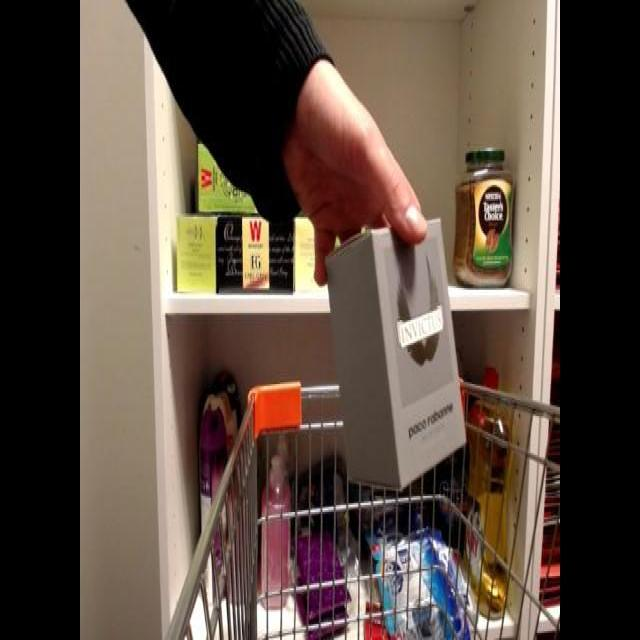Paco Rabanne: (321, 206, 468, 494)
